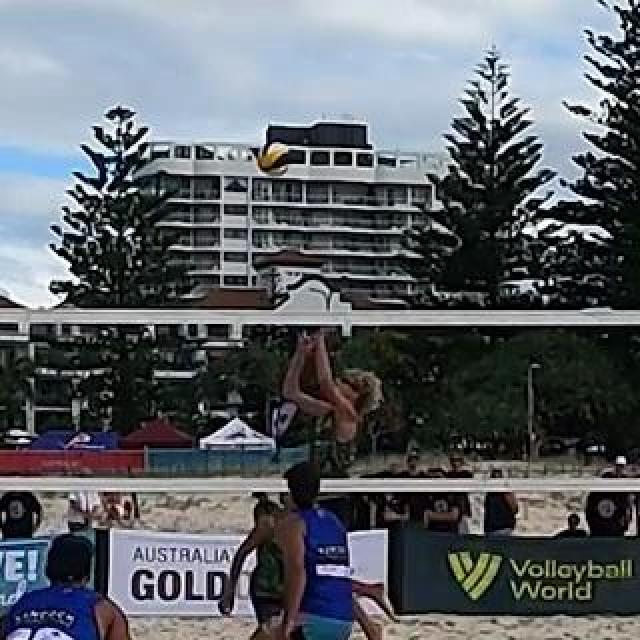volleyball: (257, 142, 293, 176)
